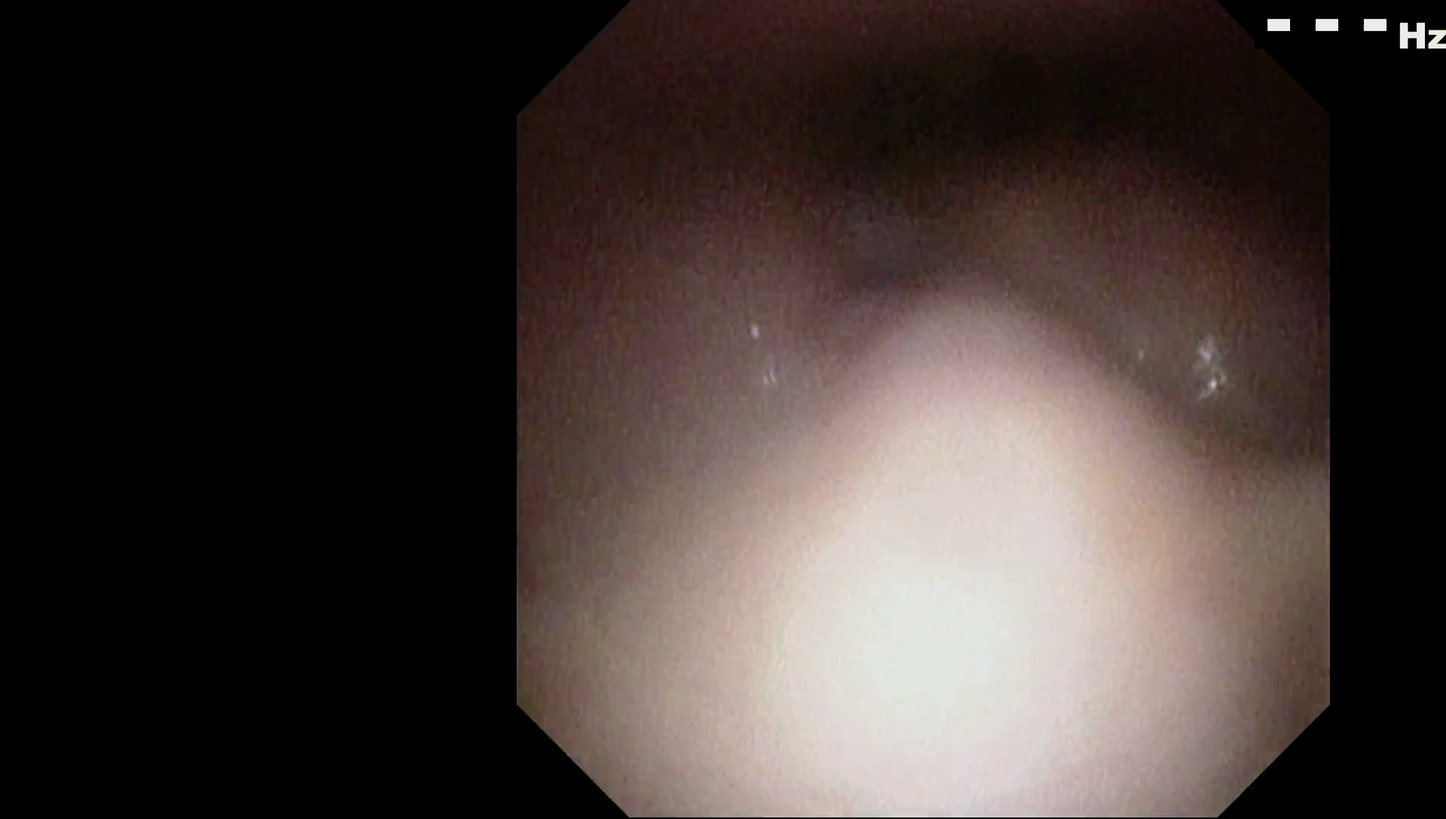close_wall: (626, 215, 1264, 757)
next: (766, 19, 1247, 174)
